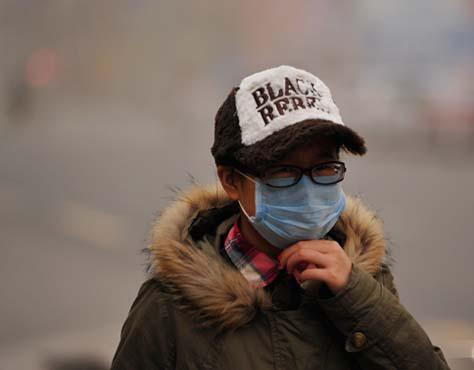OK: (248, 151, 344, 247)
